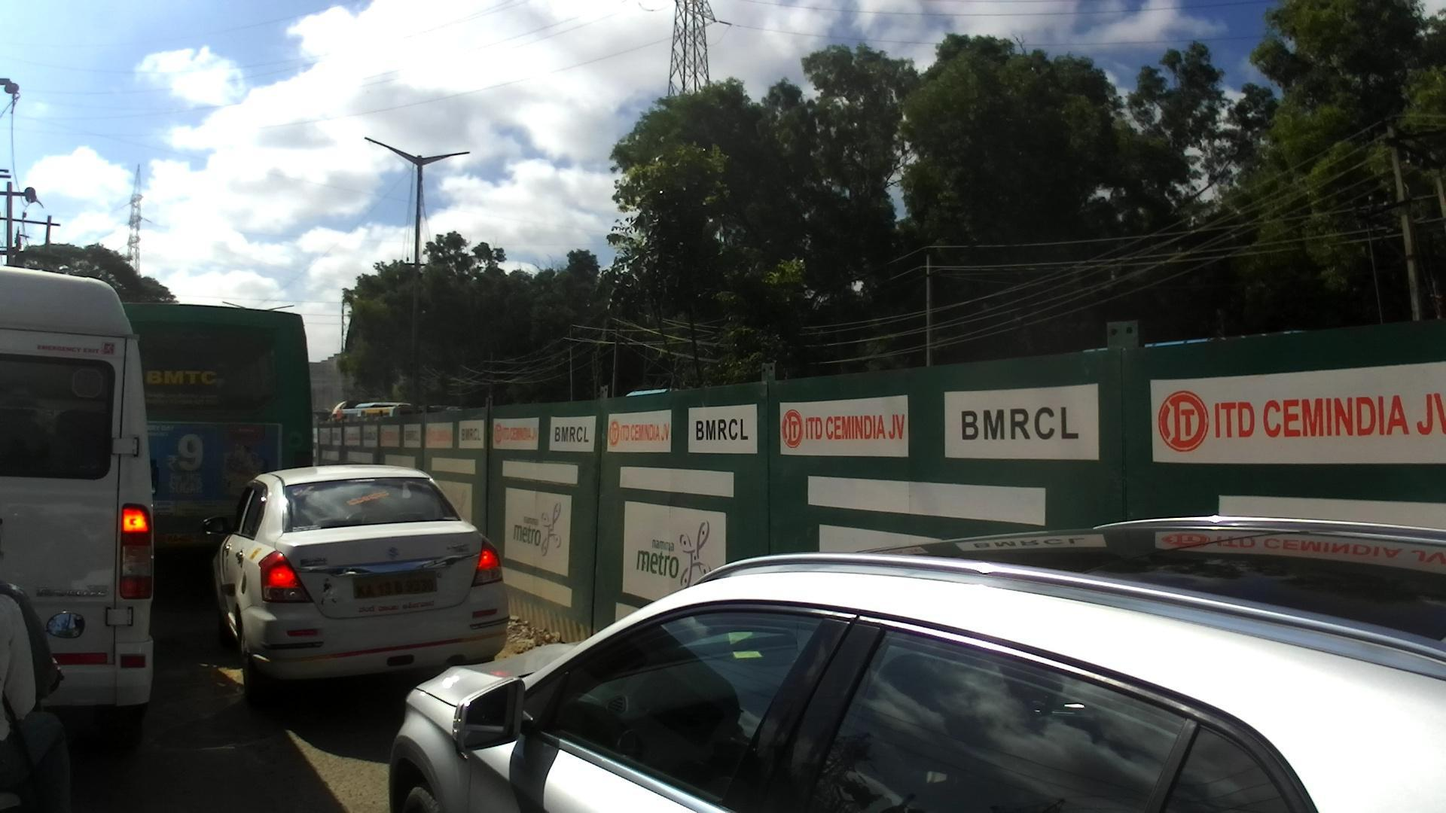streetlight: (365, 137, 424, 169), (414, 151, 471, 168), (266, 304, 295, 312), (222, 301, 248, 308)
